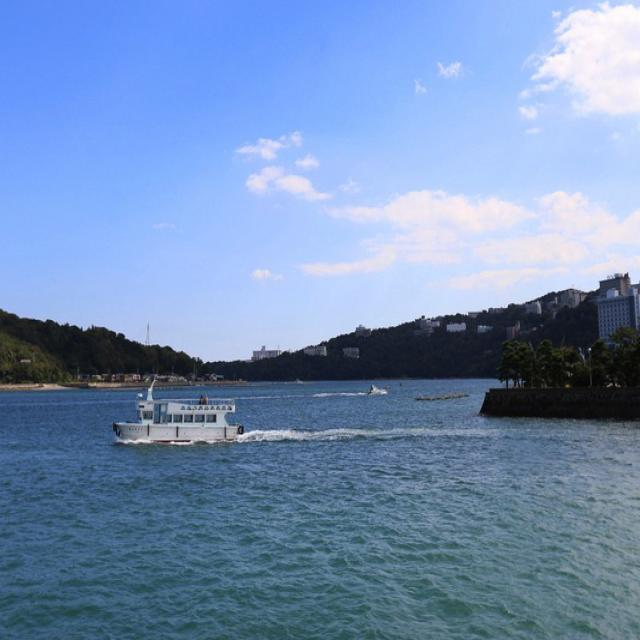houseboat: (106, 384, 254, 446)
